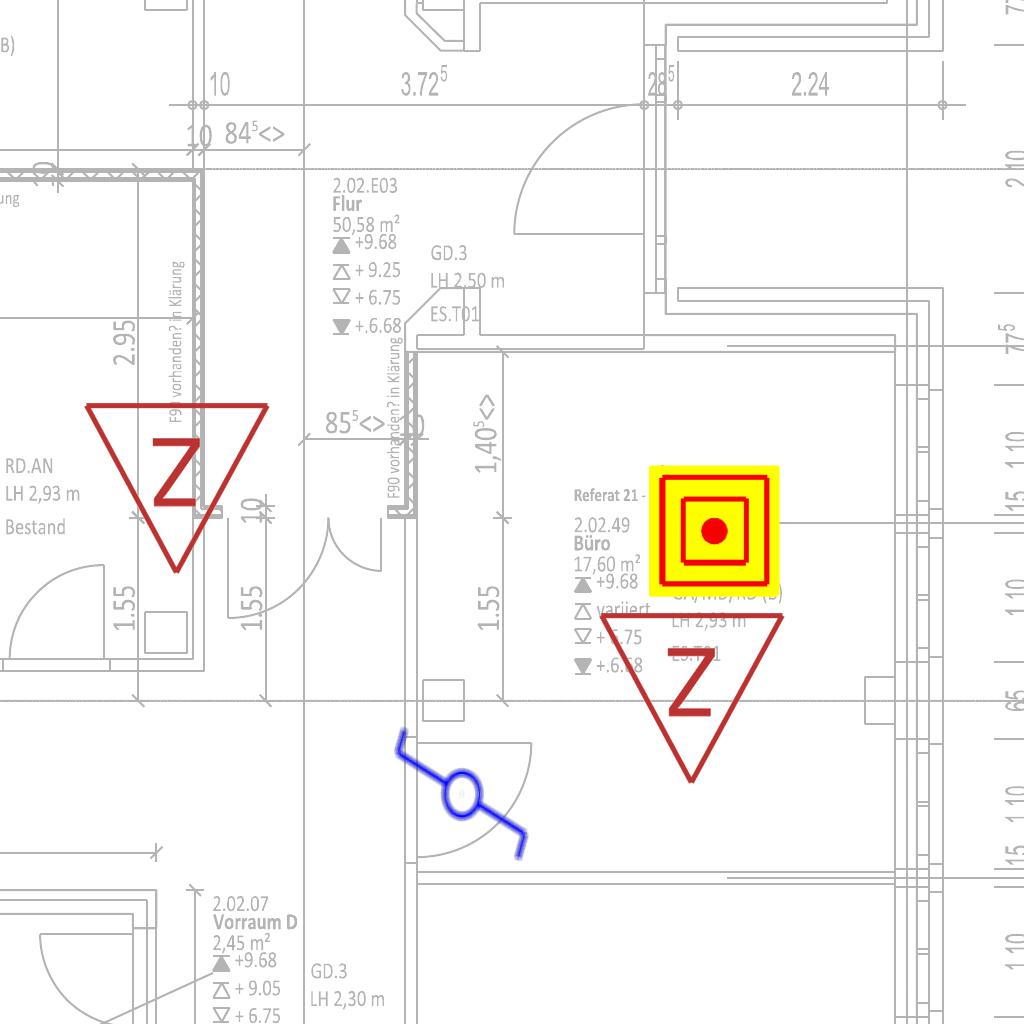NAM-Nichtautomatischer_Melder: (648, 465, 780, 597)
Wechselschalter: (388, 724, 532, 881)
Zimmersignalleuchte: (596, 598, 792, 798), (81, 388, 277, 588)
